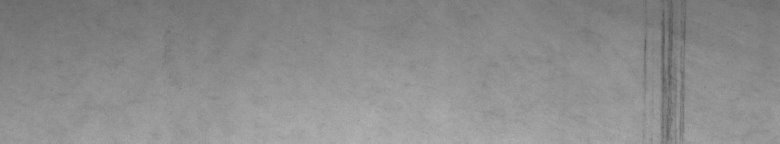hd: (644, 4, 688, 136)
